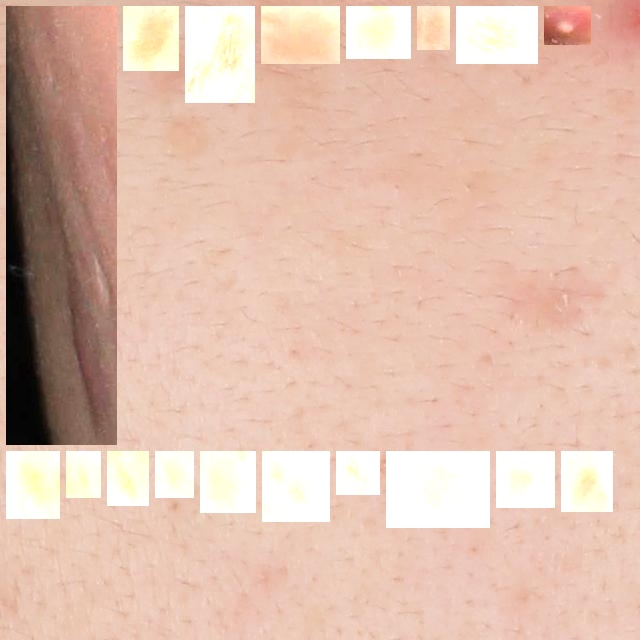hypertrophic_scar: (14, 14, 109, 437)
melasma: (394, 459, 482, 520), (193, 14, 247, 95), (270, 459, 322, 514), (464, 14, 530, 56), (269, 14, 332, 56), (14, 459, 52, 511), (131, 14, 171, 63), (208, 459, 248, 505), (354, 14, 403, 51), (504, 459, 547, 500), (569, 459, 605, 504), (115, 459, 141, 498), (344, 459, 372, 487), (163, 459, 186, 490), (74, 459, 93, 490), (425, 14, 442, 42)
pustule: (552, 14, 583, 37)
